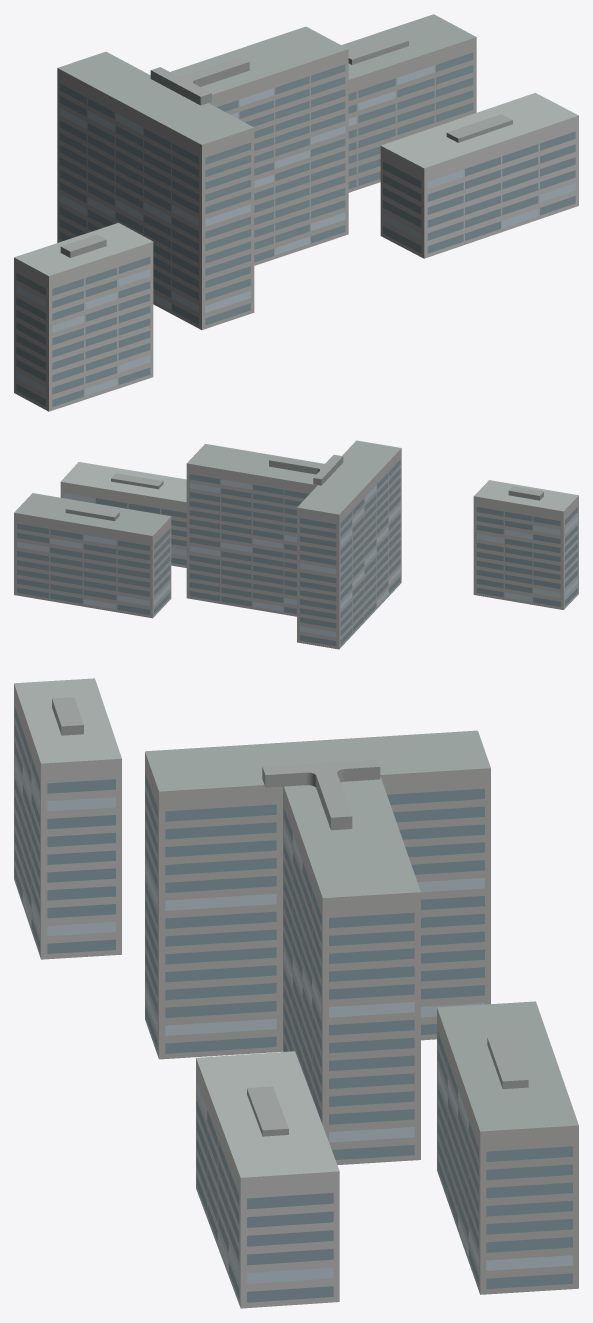
Rendered from apt-a13114201.glb.
The picture shows the model from 3 angles, top to bottom: view 1: azimuth 30°, elevation 25°; view 2: azimuth 150°, elevation 25°; view 3: azimuth 270°, elevation 25°; orthographic projection. The views are drawn at different scales.
Visible parts, largest first — view 1: apt-a13114201; view 2: apt-a13114201; view 3: apt-a13114201.
Boxes of the visible parts, x1=… form: apt-a13114201: x1=14, y1=14, x2=578, y2=411; apt-a13114201: x1=14, y1=440, x2=578, y2=649; apt-a13114201: x1=14, y1=678, x2=578, y2=1308.
Size of the model in its own units: 136 by 41 by 74.85.
